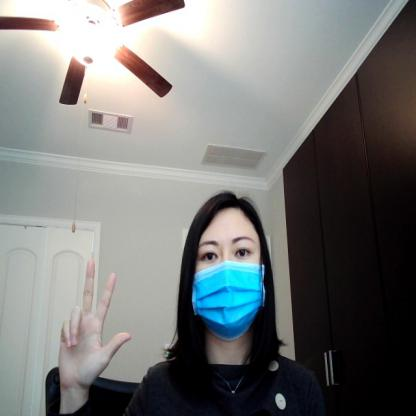three: (57, 256, 135, 391)
